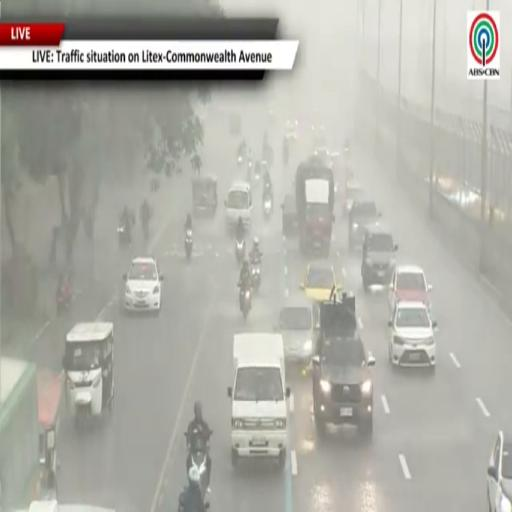bus: (0, 358, 39, 510)
car: (312, 294, 375, 436), (388, 301, 437, 369), (275, 297, 314, 364), (361, 223, 398, 290), (388, 265, 432, 317), (123, 256, 163, 312), (487, 431, 511, 511), (348, 200, 380, 249), (300, 262, 340, 301), (225, 182, 252, 229), (343, 179, 363, 216), (282, 194, 298, 237), (314, 147, 330, 165), (328, 151, 340, 173), (286, 120, 298, 140)
motorcycle: (185, 432, 208, 500), (57, 287, 72, 314), (240, 287, 251, 319), (118, 223, 131, 248), (251, 261, 260, 292), (185, 230, 193, 260), (236, 238, 245, 264), (264, 198, 273, 219), (179, 488, 187, 511), (142, 220, 149, 243), (254, 164, 262, 182), (283, 143, 288, 165), (237, 154, 243, 167)
truck: (228, 333, 290, 467), (295, 156, 334, 255)
